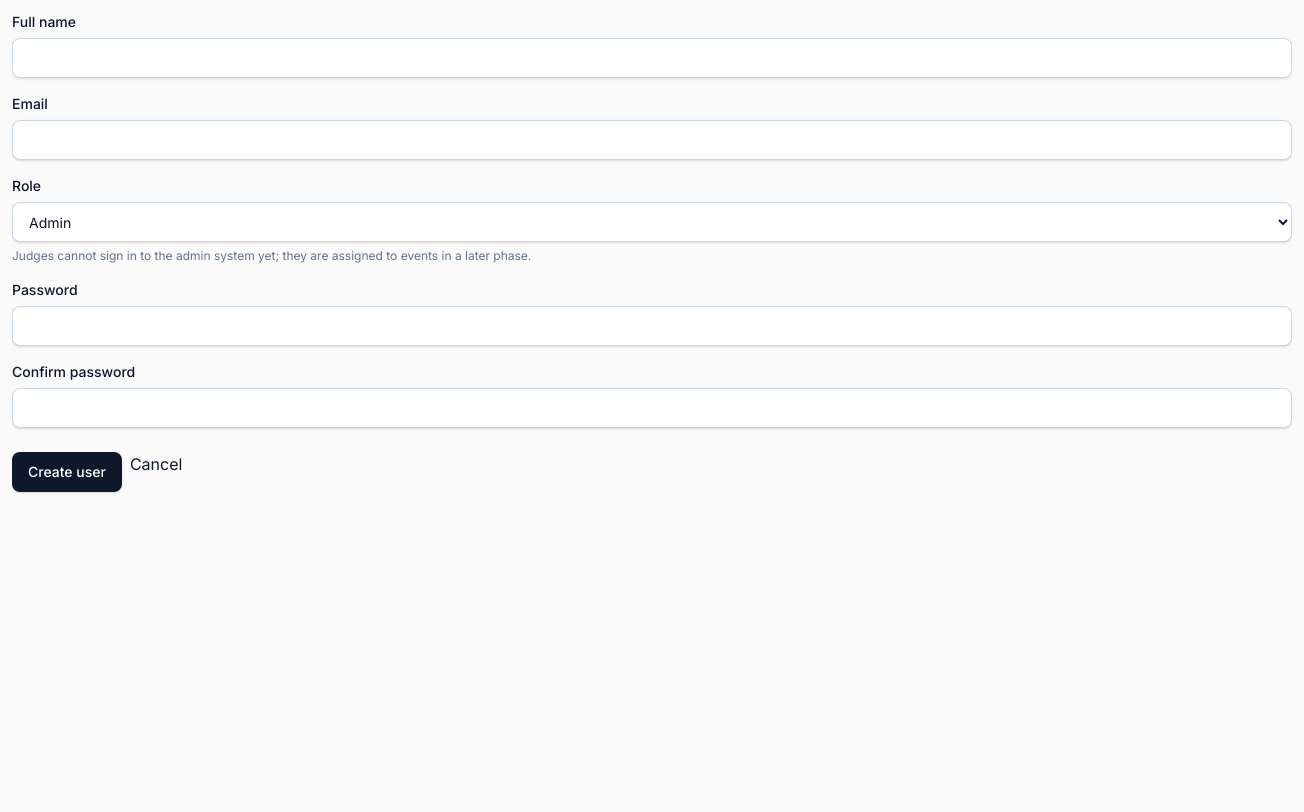
UserForm › create mode requires name, email and a strong password
Click the button "Create user".
click(67, 472)  # box [12,452,122,492]
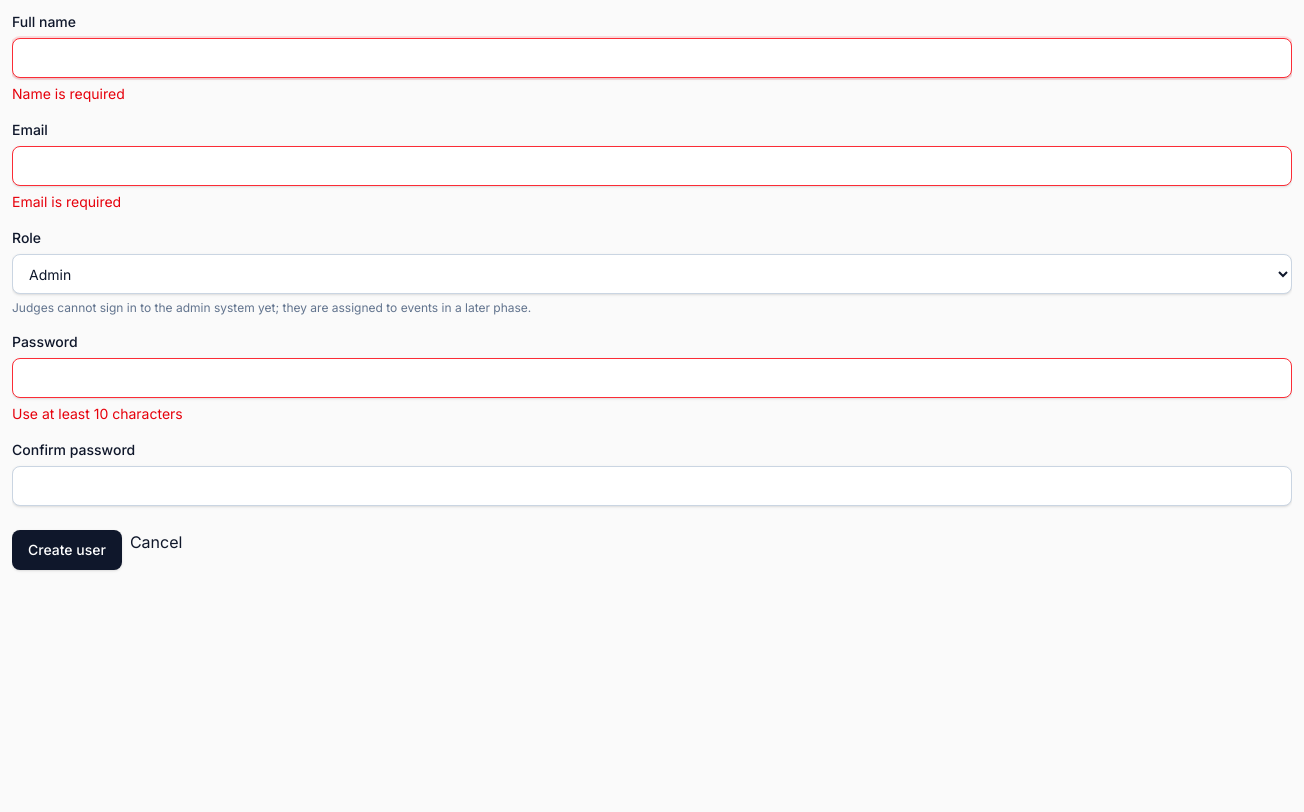
Now the text "Name is required" is shown, box [12,85,125,102]
Now the text "Email is required" is shown, box [12,193,121,210]
Now the text "Use at least 10 characters" is shown, box [12,405,183,422]
